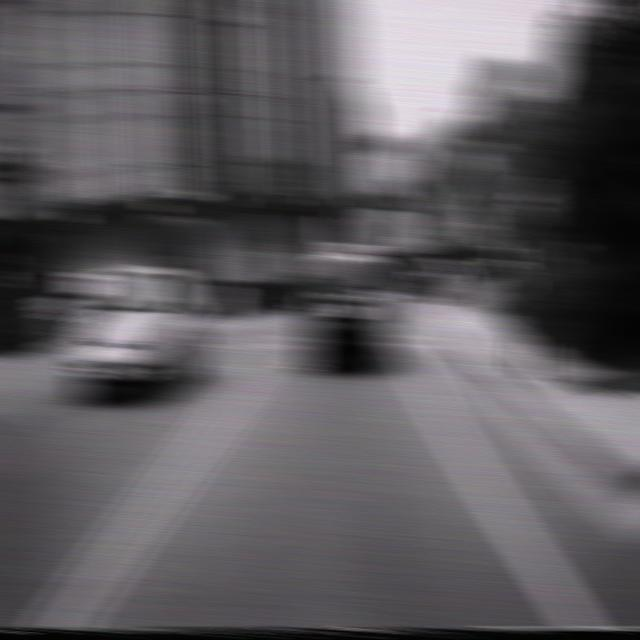stop: (515, 175, 557, 227)
